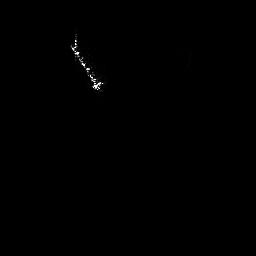ship: (68, 31, 105, 95)
